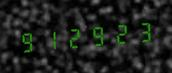nine: (17, 25, 39, 56), (87, 19, 109, 50)
one: (40, 23, 62, 54)
three: (133, 15, 155, 46)
two: (64, 21, 86, 52), (110, 17, 132, 48)
